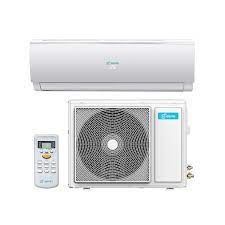ac: (28, 34, 203, 96)
